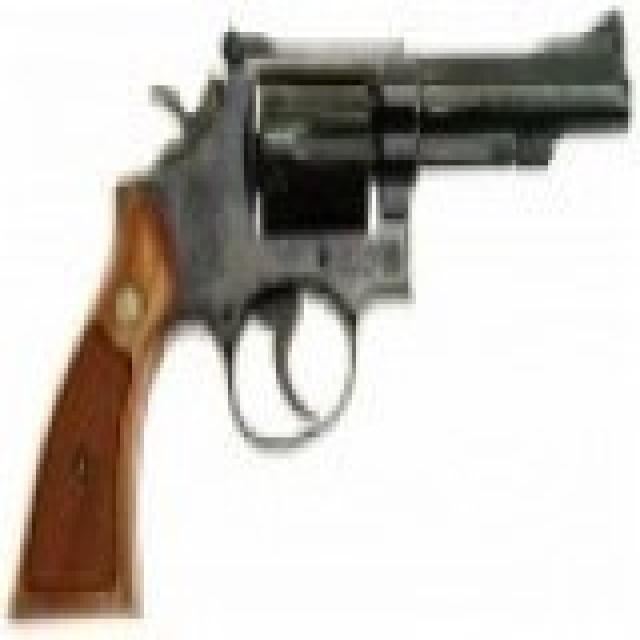Gun: (30, 9, 636, 614)
